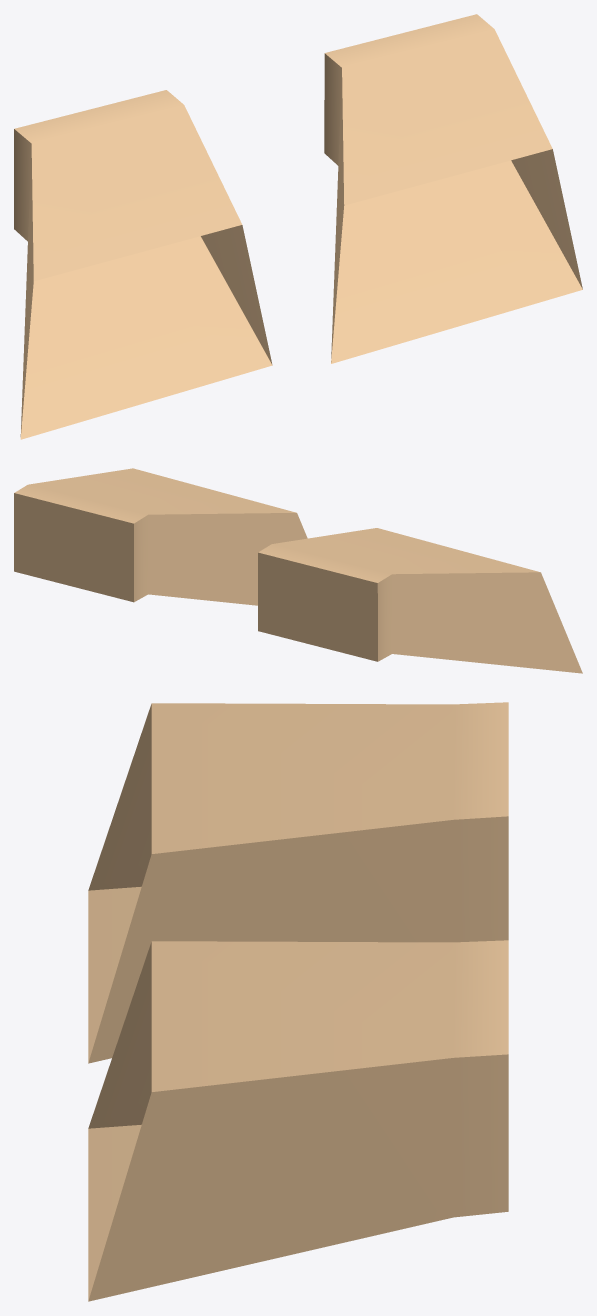
File: AI_FX_LightRay_04.fbx
The picture shows the model from 3 angles, top to bottom: view 1: azimuth 30°, elevation 25°; view 2: azimuth 150°, elevation 25°; view 3: azimuth 270°, elevation 25°; orthographic projection. The views are drawn at different scales.
Visible parts, largest first — view 1: AI_FX_LightRay_04; view 2: AI_FX_LightRay_04; view 3: AI_FX_LightRay_04.
Boxes of the visible parts, x1,y1,x2,y2 form: AI_FX_LightRay_04: (14, 14, 582, 439); AI_FX_LightRay_04: (14, 468, 582, 673); AI_FX_LightRay_04: (88, 702, 508, 1301).
Size of the model in its own units: 11.56 by 3.44 by 4.54.
